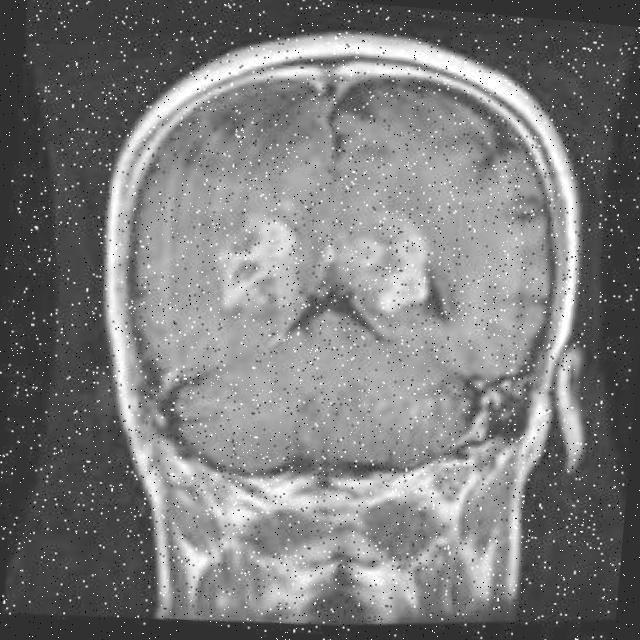LMCI: (324, 187, 438, 354), (220, 227, 306, 324)
